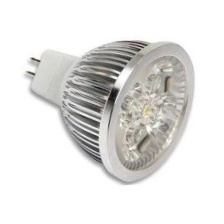light_bulb: (19, 35, 201, 187)
